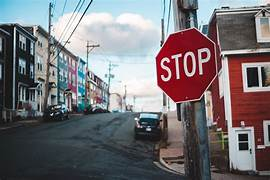stop: (156, 29, 218, 102)
